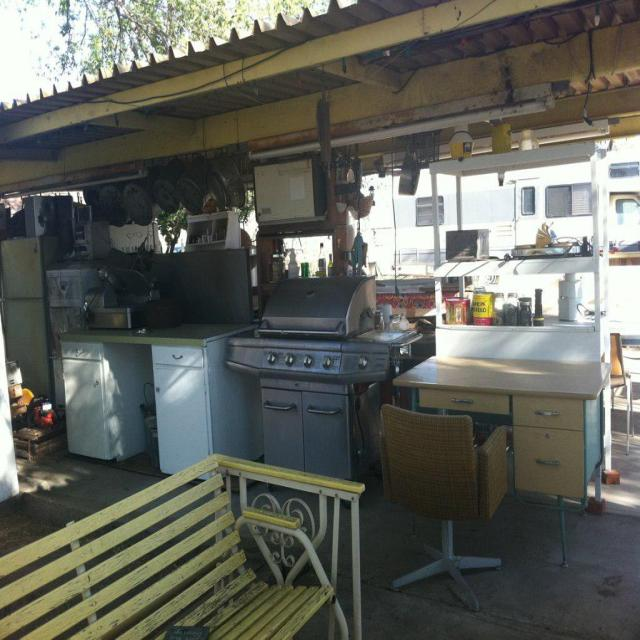chair: (379, 403, 508, 612)
desk: (421, 323, 612, 544)
